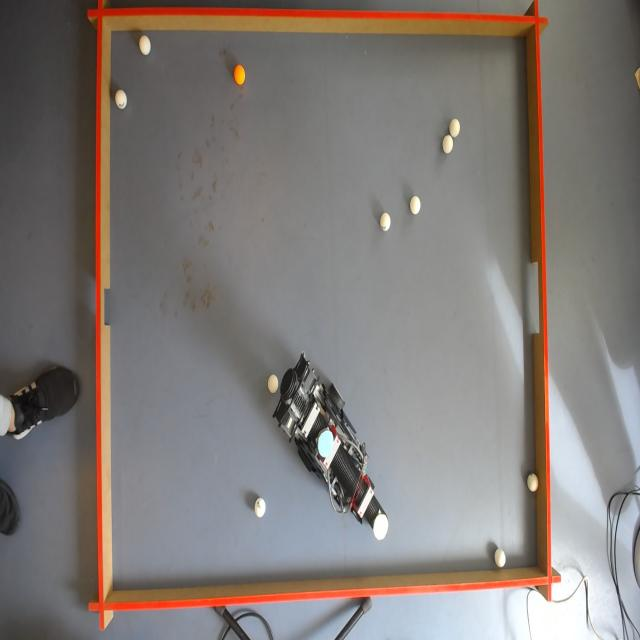orange: (232, 66, 246, 85)
robot: (274, 358, 386, 540)
robot-front: (373, 513, 389, 541)
robot-rear: (318, 430, 333, 457)
white: (254, 498, 268, 520), (138, 36, 151, 58), (116, 88, 130, 108), (494, 548, 507, 568), (528, 473, 540, 492), (379, 214, 391, 232), (442, 135, 454, 152), (267, 376, 279, 392), (411, 197, 422, 214), (450, 120, 460, 136)
